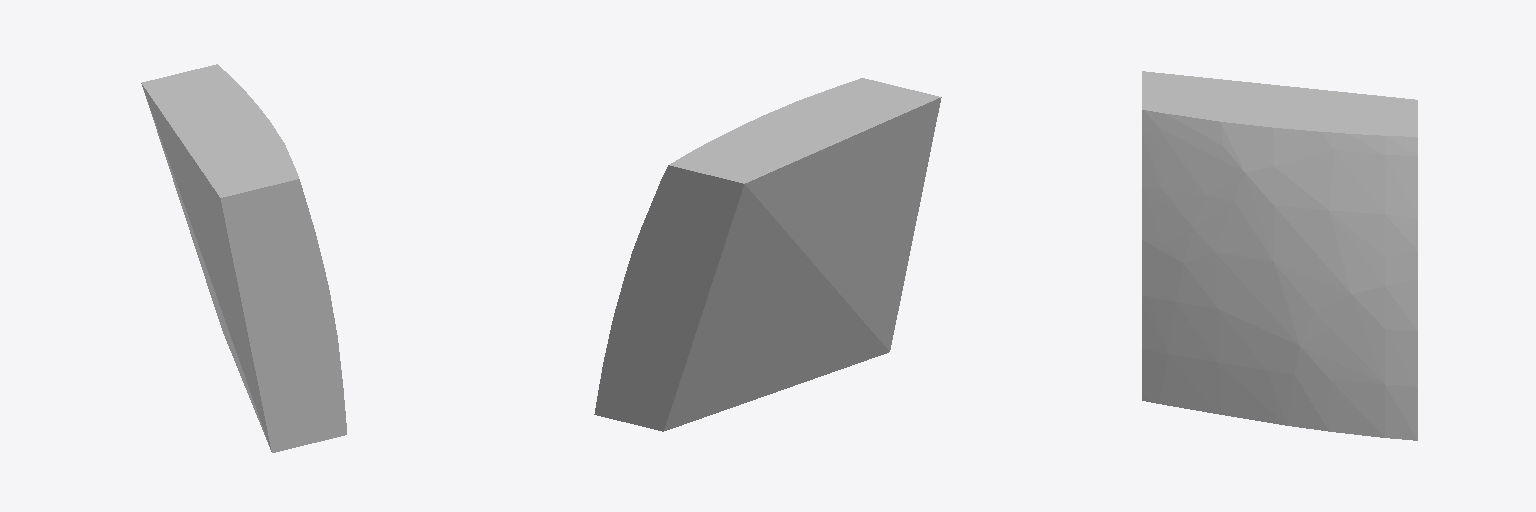
The model's file is phantom-elastrat_collision_440.obj.
3 views of the same model, side by side, from view 1: azimuth 30°, elevation 25°; view 2: azimuth 150°, elevation 25°; view 3: azimuth 270°, elevation 25° (orthographic).
Size of the model in its own units: 0.005 by 0.0061 by 0.0057.